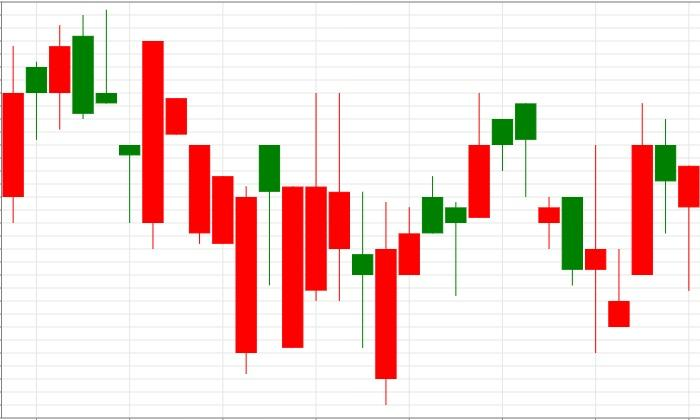hanging_man_fall: (375, 92, 537, 405)
inverse_hammer_rise: (515, 102, 630, 354)
